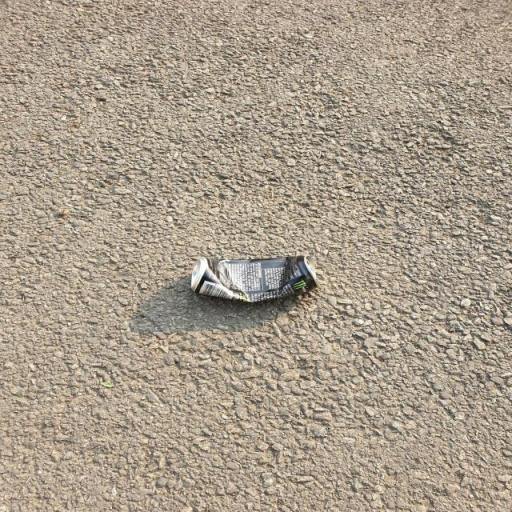metal: (179, 246, 338, 306)
